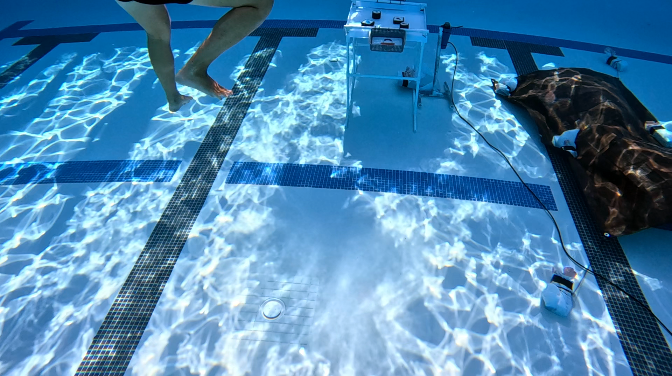sandbag: (490, 60, 671, 233)
